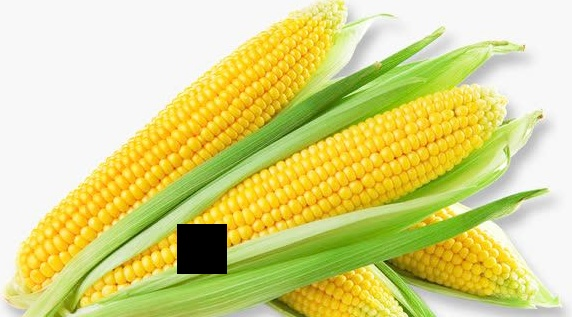corn: (9, 2, 348, 297), (78, 82, 504, 309)
